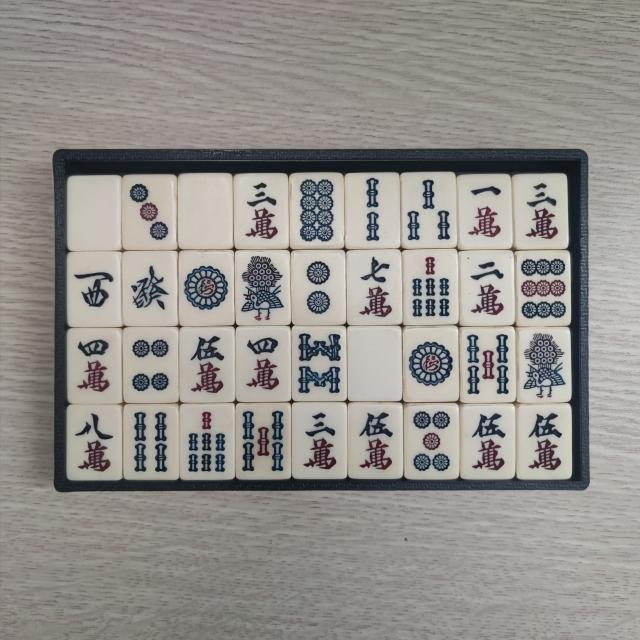hdg: (127, 256, 172, 322)
hdw: (352, 331, 398, 396), (184, 180, 228, 246), (71, 180, 114, 246)
hww: (74, 258, 118, 322)
sb1: (239, 254, 287, 323), (520, 332, 566, 402)
sb2: (348, 175, 394, 245)
sb3: (407, 178, 455, 246)
sb4: (129, 410, 172, 477)
sb5: (466, 330, 514, 397), (238, 408, 284, 477)
sb7: (406, 254, 454, 322), (185, 408, 230, 476)
sb8: (296, 330, 342, 397)
sc1: (463, 179, 508, 244)
sc2: (465, 256, 510, 322)
sc3: (518, 178, 562, 244), (241, 178, 285, 244), (298, 410, 342, 474)
sc4: (242, 332, 286, 397), (72, 334, 115, 398)
sc5: (467, 408, 512, 476), (522, 408, 566, 476), (186, 332, 231, 398), (352, 408, 397, 474)
sc7: (352, 254, 398, 322)
sc8: (70, 410, 116, 476)
sd1: (184, 255, 232, 322), (407, 330, 455, 397)
sd2: (296, 256, 342, 320)
sd3: (126, 180, 172, 246)
sd4: (128, 332, 174, 398)
sd5: (409, 406, 454, 474)
sd8: (296, 176, 340, 243)
sd9: (522, 256, 570, 322)
